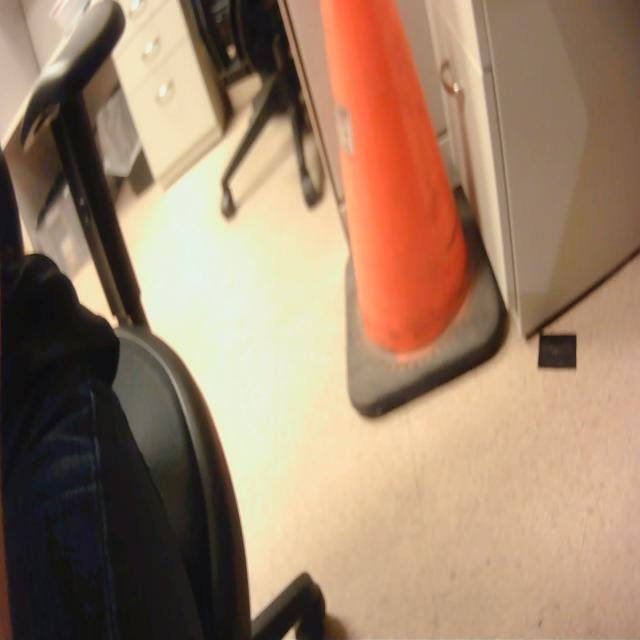traffic cone: (319, 1, 517, 440)
